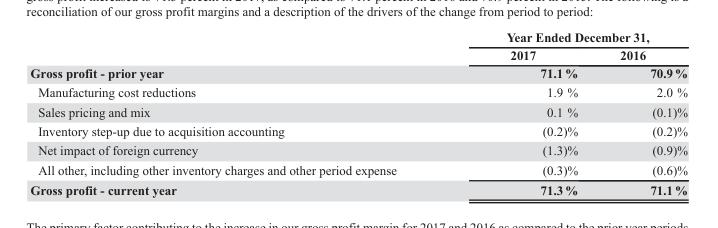table: (29, 29, 687, 197)
table column: (29, 29, 450, 197), (450, 29, 598, 197), (598, 29, 687, 197)
table column header: (29, 29, 687, 63)
table row: (29, 120, 687, 140), (29, 159, 687, 179), (29, 63, 687, 82), (29, 82, 687, 101), (29, 101, 687, 120), (29, 140, 687, 159), (29, 45, 687, 63), (29, 179, 687, 197), (29, 29, 687, 45)
table spanning cell: (450, 29, 687, 45)
